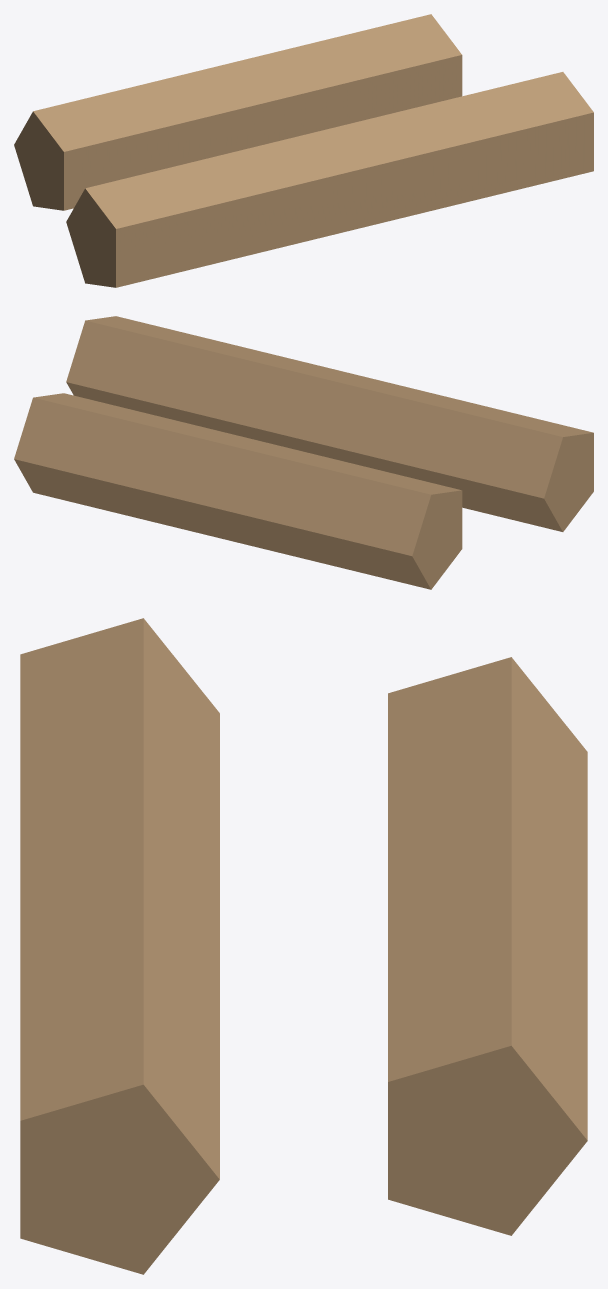
File: prop-pegboard-peg-set-pb1.fbx
3 views of the same model, one above another, from view 1: azimuth 30°, elevation 25°; view 2: azimuth 150°, elevation 25°; view 3: azimuth 270°, elevation 25° (orthographic). The views are drawn at different scales.
Parts seen in each view (by area): view 1: prop-pegboard-peg-set-pb1; view 2: prop-pegboard-peg-set-pb1; view 3: prop-pegboard-peg-set-pb1.
Part boxes in pixels (box(x1,y1,x2,y2)): prop-pegboard-peg-set-pb1: box(14, 14, 593, 287); prop-pegboard-peg-set-pb1: box(14, 316, 593, 589); prop-pegboard-peg-set-pb1: box(20, 618, 587, 1274).
Bounding box in the file's own units: 0.12 × 0.0228 × 0.0617.
